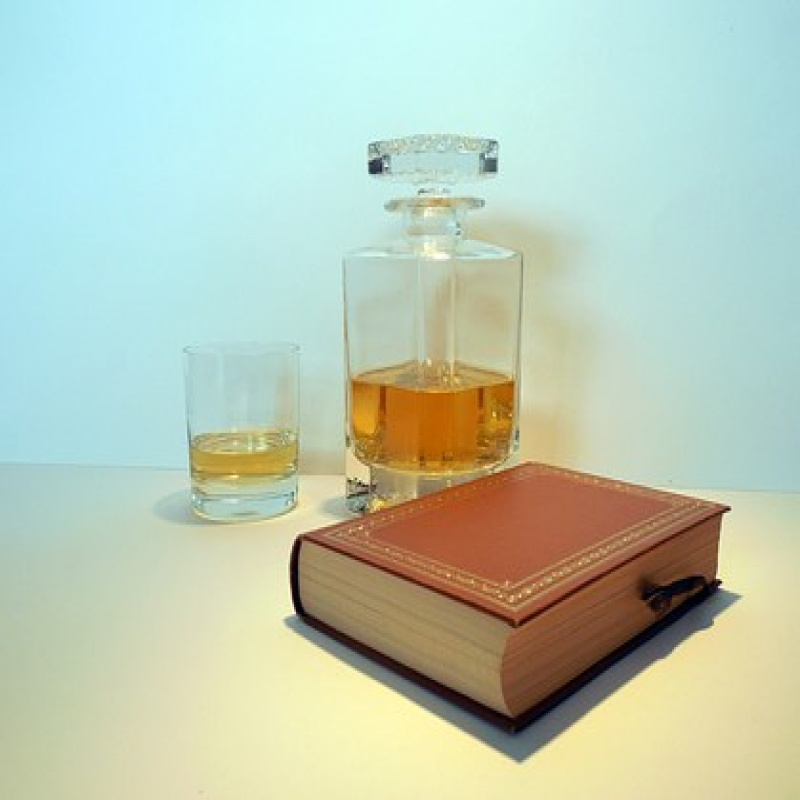whiskey: (180, 337, 317, 522)
